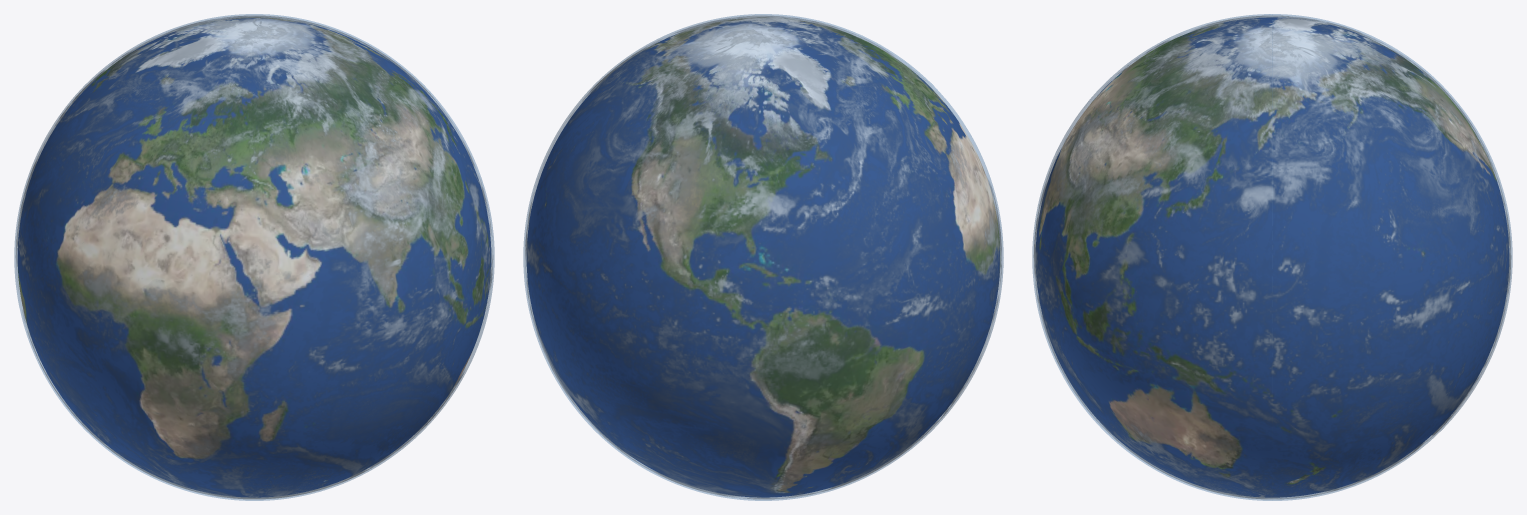
The model's file is earth.glb.
The picture shows the model from 3 angles, left to right: view 1: azimuth 30°, elevation 25°; view 2: azimuth 150°, elevation 25°; view 3: azimuth 270°, elevation 25°; orthographic projection.
Visible parts, largest first — view 1: pSphere5_lambert7_0, pSphere1_phong1_0, pSphere4_lambert6_0; view 2: pSphere5_lambert7_0, pSphere1_phong1_0, pSphere4_lambert6_0; view 3: pSphere5_lambert7_0, pSphere1_phong1_0, pSphere4_lambert6_0.
Part boxes in pixels (bbox=[...]): pSphere5_lambert7_0: bbox=[14, 14, 494, 500]; pSphere1_phong1_0: bbox=[17, 17, 491, 497]; pSphere4_lambert6_0: bbox=[16, 15, 492, 499]; pSphere5_lambert7_0: bbox=[523, 14, 1003, 500]; pSphere1_phong1_0: bbox=[526, 17, 1000, 497]; pSphere4_lambert6_0: bbox=[525, 15, 1001, 499]; pSphere5_lambert7_0: bbox=[1032, 14, 1512, 500]; pSphere1_phong1_0: bbox=[1035, 17, 1509, 497]; pSphere4_lambert6_0: bbox=[1034, 15, 1510, 499].
Bounding box in the file's own units: 192 × 196 × 192.
3 materials, 2 textured.
